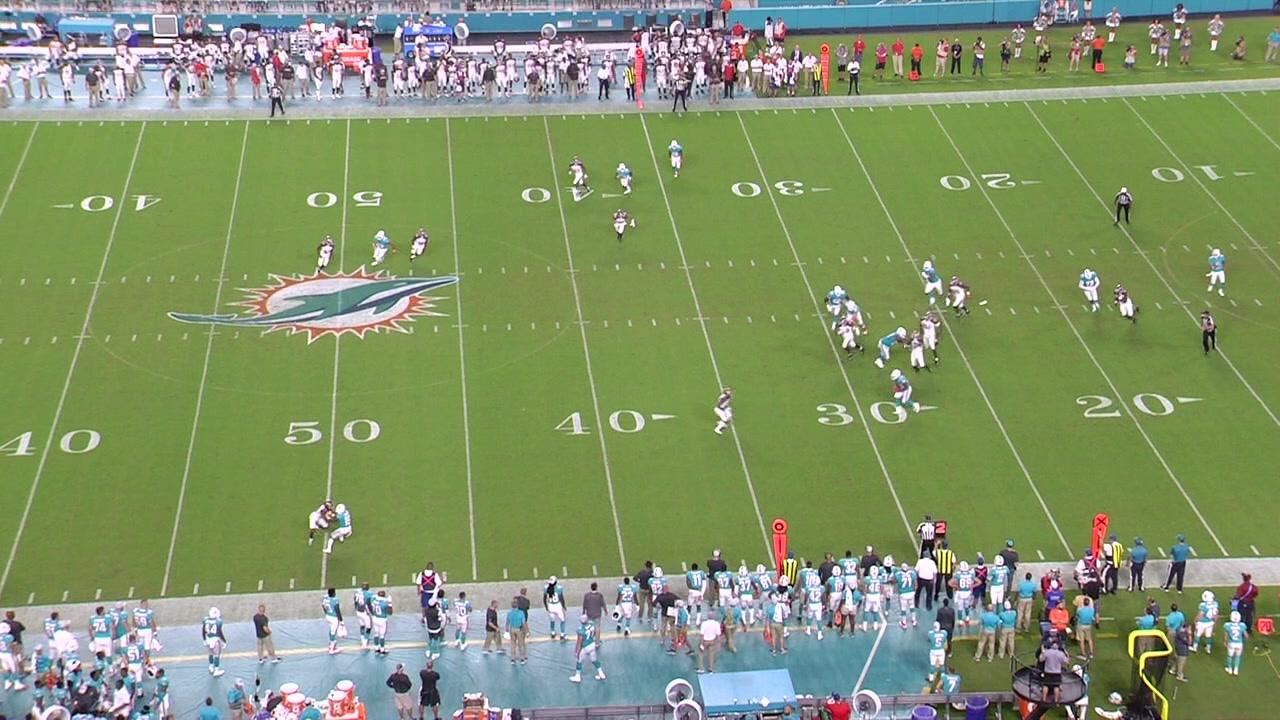five_hash: (690, 316, 713, 323), (450, 323, 471, 330), (201, 330, 223, 336), (1048, 304, 1070, 310), (1171, 300, 1193, 306), (71, 334, 92, 340), (211, 277, 232, 283), (448, 271, 469, 277), (810, 312, 831, 318), (903, 257, 921, 264), (790, 261, 810, 267), (88, 280, 107, 286), (572, 319, 591, 325), (1018, 255, 1037, 260), (563, 268, 581, 273), (1248, 246, 1269, 250), (679, 265, 697, 269)
hash: (17, 276, 28, 288), (43, 277, 54, 288), (68, 277, 79, 288), (144, 274, 155, 285), (1228, 242, 1240, 252), (673, 316, 683, 328), (625, 318, 635, 330), (50, 334, 60, 346), (167, 273, 177, 284), (1254, 297, 1264, 308), (911, 309, 922, 319), (180, 331, 190, 342), (154, 333, 164, 344), (22, 336, 32, 347), (130, 332, 139, 344), (118, 276, 128, 286), (475, 266, 485, 276), (1202, 299, 1212, 309), (1154, 301, 1164, 311), (983, 308, 993, 318), (231, 330, 241, 340), (974, 251, 985, 260), (865, 310, 874, 321), (481, 323, 490, 334), (590, 264, 600, 273), (771, 258, 780, 268), (952, 251, 961, 261), (997, 251, 1007, 260), (1088, 248, 1098, 257), (1181, 243, 1190, 253), (1229, 298, 1238, 308), (1081, 304, 1090, 314), (1008, 306, 1017, 316), (793, 313, 802, 323), (722, 316, 731, 326), (103, 334, 112, 344), (770, 314, 778, 325), (651, 317, 659, 328), (506, 322, 514, 333), (192, 274, 201, 283), (407, 268, 416, 277), (544, 265, 553, 274), (658, 262, 667, 271), (861, 255, 870, 264), (1044, 249, 1053, 258), (1066, 247, 1075, 256), (430, 268, 438, 278), (636, 262, 644, 272), (727, 259, 735, 269), (816, 256, 824, 266), (1111, 247, 1121, 255), (1032, 305, 1040, 315), (888, 311, 896, 321), (432, 324, 440, 334), (522, 266, 530, 275), (614, 262, 622, 271), (884, 255, 892, 264), (1206, 243, 1214, 252), (746, 315, 754, 324), (602, 320, 610, 329), (554, 321, 562, 330), (530, 321, 537, 331), (748, 259, 756, 267), (500, 266, 507, 275), (242, 273, 249, 281), (704, 261, 712, 268), (839, 256, 846, 264)
marker: (632, 48, 648, 109), (771, 518, 788, 575), (1092, 513, 1107, 573), (819, 44, 829, 93)
number: (281, 416, 385, 446), (0, 427, 103, 457), (1072, 392, 1177, 421), (552, 408, 648, 439), (811, 399, 910, 429), (1150, 161, 1227, 187), (935, 170, 1020, 193), (78, 192, 164, 214), (304, 189, 385, 211), (729, 178, 807, 198), (518, 185, 595, 205)
